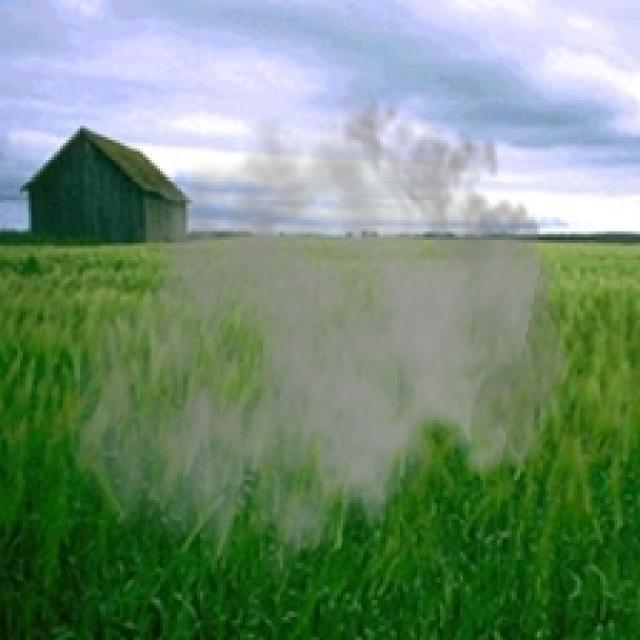smoke: (63, 77, 580, 606)
